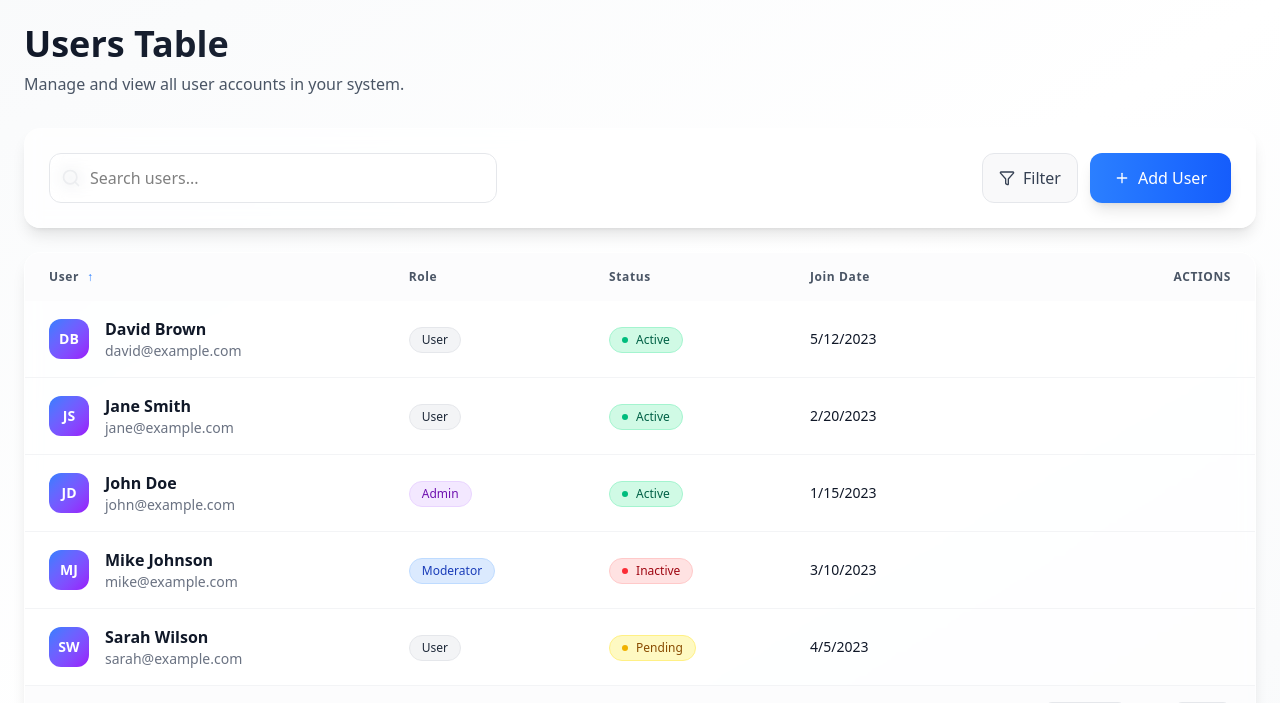
TableView › filters users based on search term
The width and height of the screenshot is (1280, 703).
Step 1. Type "John" into the field with placeholder "Search users..." → (273, 178), box [49, 153, 497, 203]
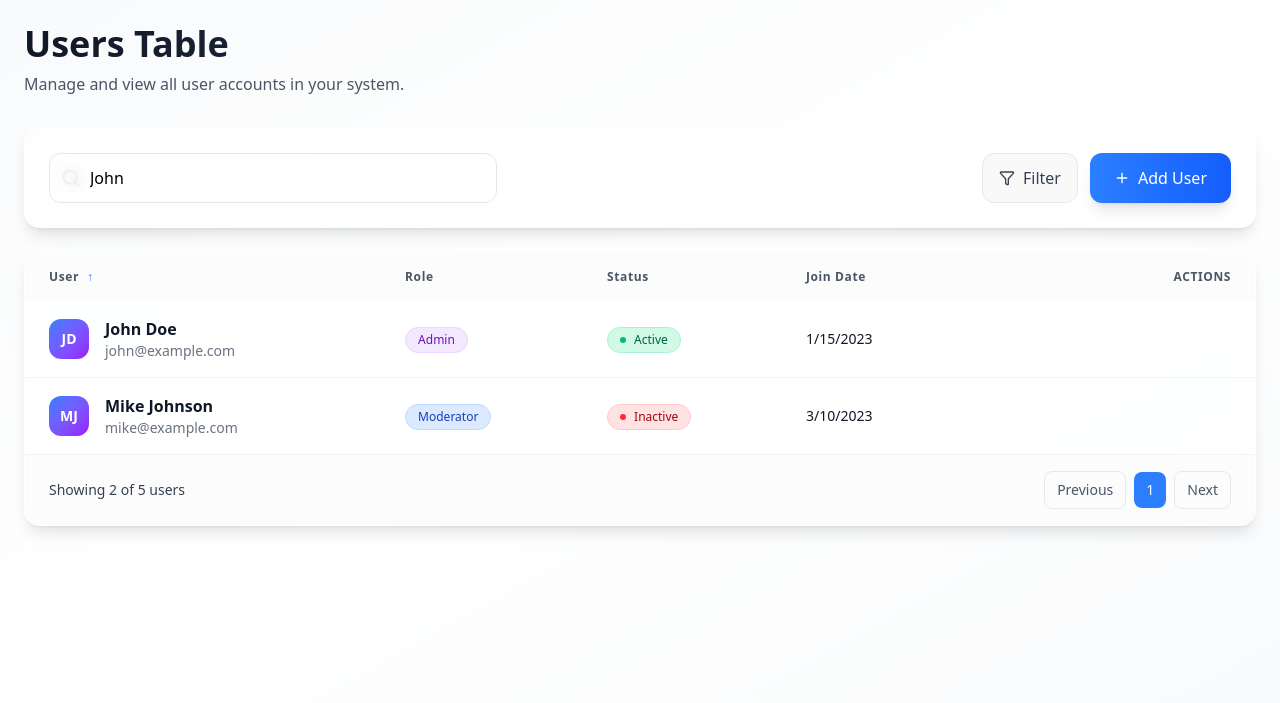
Expected: the text "John Doe" is shown, [105, 318, 177, 340]
Expected: the text "Jane Smith" is gone
